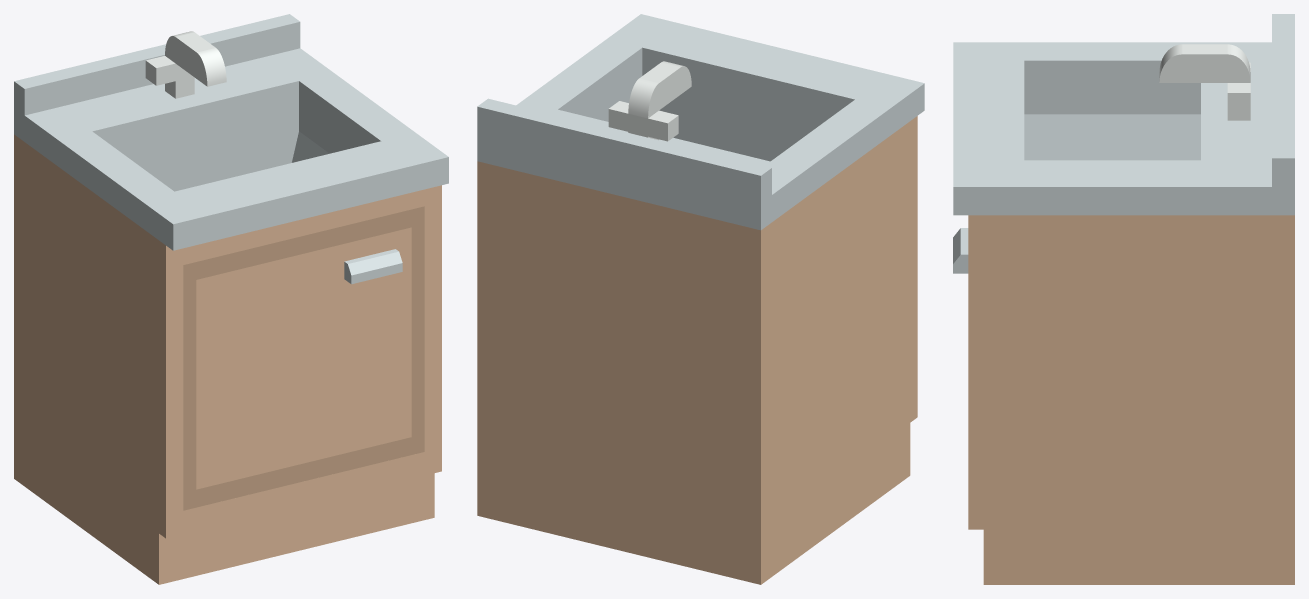
The model's file is kenney_kitchenSink.glb.
3 renders of one model, left to right at view 1: azimuth 30°, elevation 25°; view 2: azimuth 150°, elevation 25°; view 3: azimuth 270°, elevation 25°, orthographic. The views are drawn at different scales.
Visible parts, largest first — view 1: Mesh kitchenSink, door; view 2: Mesh kitchenSink; view 3: Mesh kitchenSink, door.
Boxes of the visible parts, box(x1,y1,x2,y2) form: Mesh kitchenSink: box(14, 14, 448, 584); door: box(183, 206, 424, 510); Mesh kitchenSink: box(477, 14, 924, 584); Mesh kitchenSink: box(953, 14, 1294, 584); door: box(953, 228, 968, 273).
Bounding box in the file's own units: 0.6 × 0.9 × 0.6.
